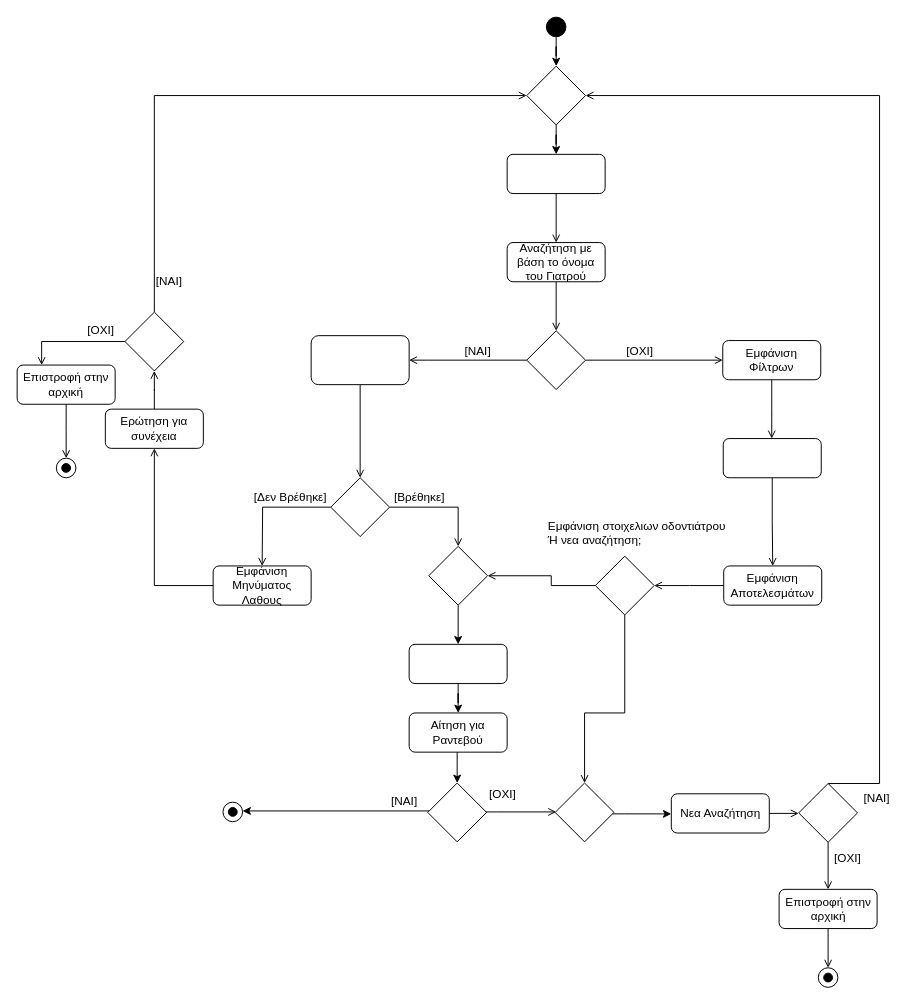
Image size: 918x1005. Some labels were removed from this diagram. The box of each missing label's shape, as (x1, y1, x2, y2) in pixels:
Εμφάνιση στοιχείων Οδοντιάτρου: (408, 643, 507, 684)
Επιλογή Φίλτρων: (722, 438, 821, 478)
Εύρεση Οδοντιάτρων: (506, 153, 605, 194)
Συμπλήρωση ονόματος οδοντιάτρου: (310, 335, 409, 385)
